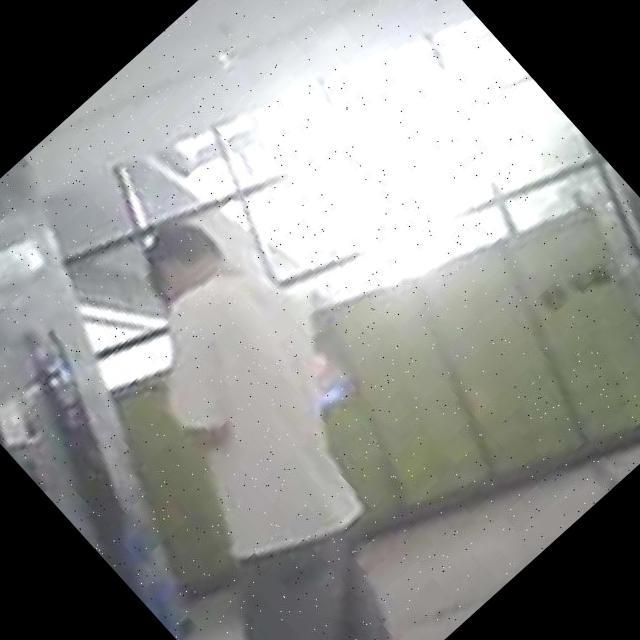person: (0, 182, 537, 640)
